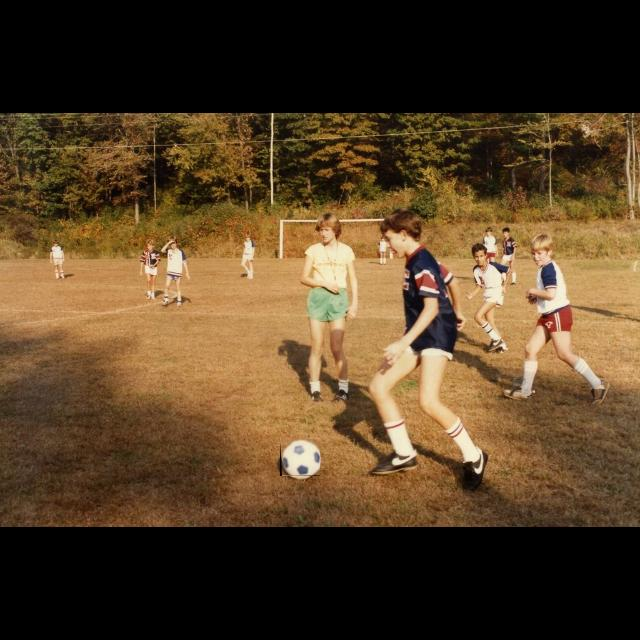Football: (280, 438, 320, 476)
